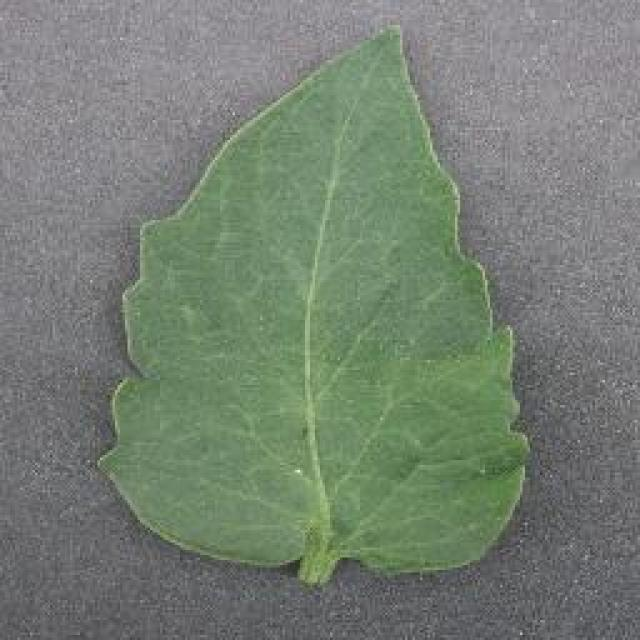Tomato_Healthy: (102, 21, 536, 583)
